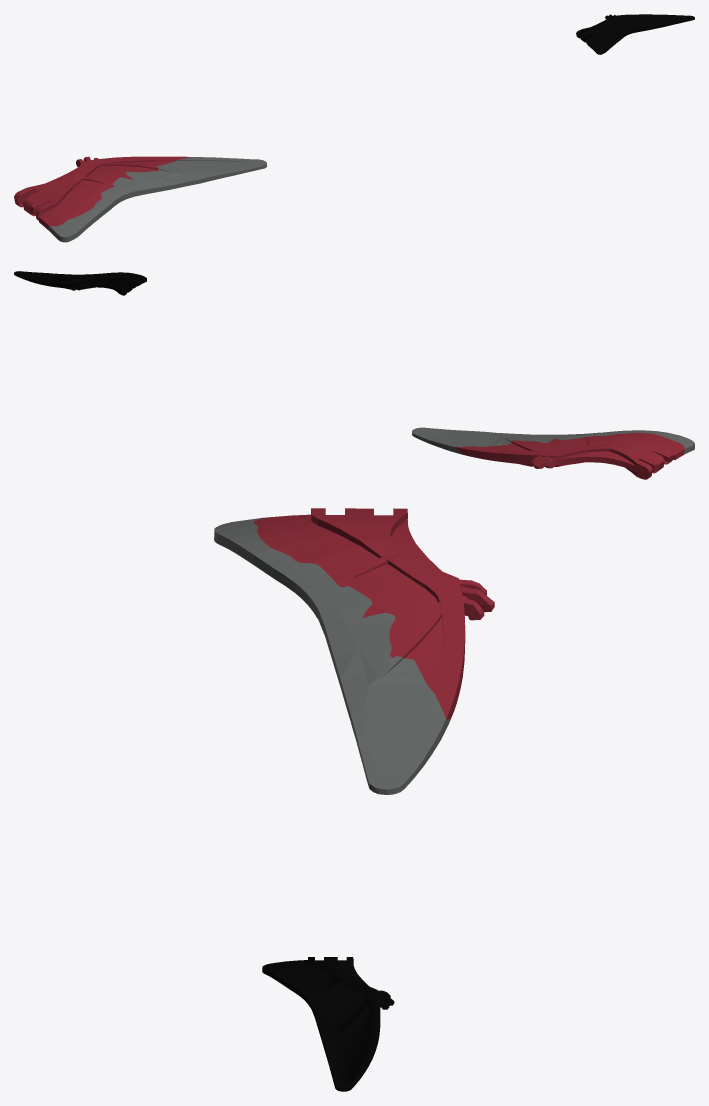
Rendered from AlaDerecha.obj.
3 views of the same model, one above another, from view 1: azimuth 30°, elevation 25°; view 2: azimuth 150°, elevation 25°; view 3: azimuth 270°, elevation 25° (orthographic). The views are drawn at different scales.
Parts seen in each view (by area): view 1: polySurface69, polySurface80; view 2: polySurface69, polySurface80; view 3: polySurface69, polySurface80.
Boxes of the visible parts, x1=… form: polySurface69: x1=14, y1=156, x2=266, y2=242; polySurface80: x1=576, y1=14, x2=694, y2=54; polySurface69: x1=412, y1=427, x2=694, y2=479; polySurface80: x1=14, y1=271, x2=146, y2=295; polySurface69: x1=214, y1=508, x2=494, y2=794; polySurface80: x1=262, y1=957, x2=394, y2=1091.
Bounding box in the file's own units: 11.85 × 1.16 × 2.21.
2 materials, 1 textured.
